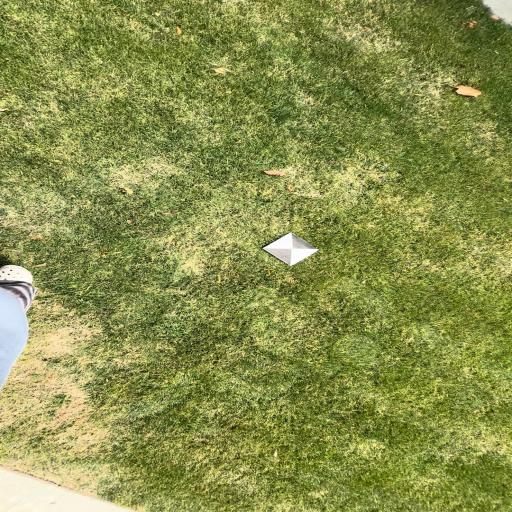target: (263, 233, 319, 266)
